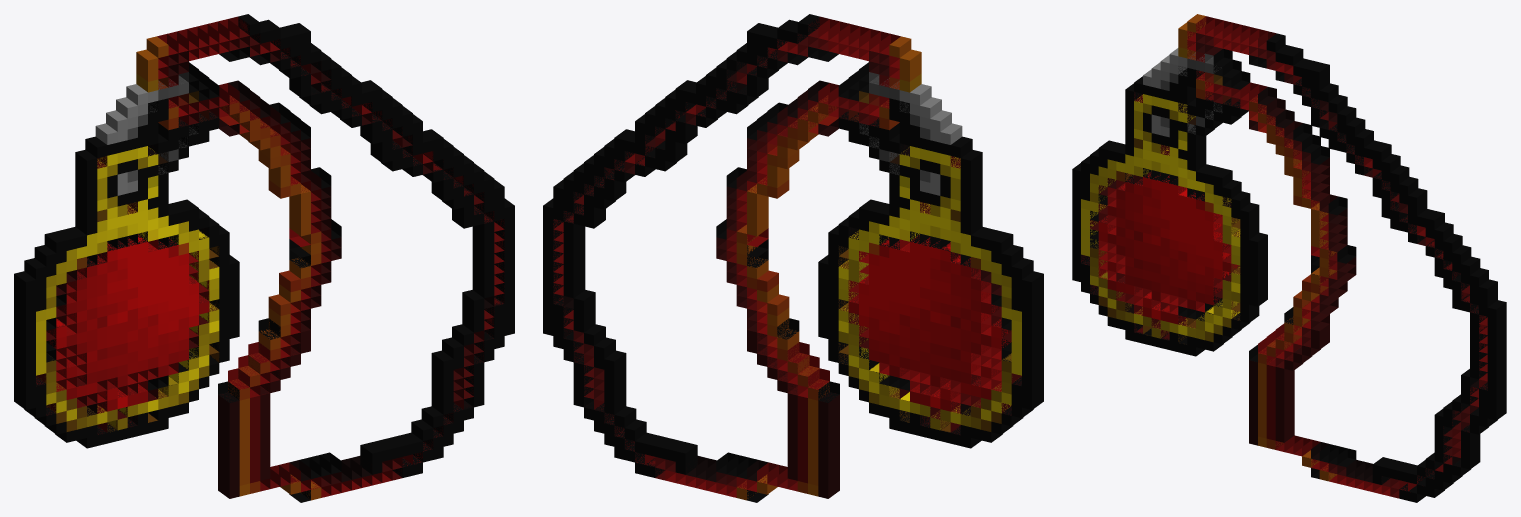
File: HestiasAmulet.fbx
3 views of the same model, side by side, from view 1: azimuth 30°, elevation 25°; view 2: azimuth 150°, elevation 25°; view 3: azimuth 330°, elevation 25° (orthographic). The views are drawn at different scales.
Parts seen in each view (by area): view 1: hestiasamulet; view 2: hestiasamulet; view 3: hestiasamulet.
Boxes of the visible parts, box(x1,y1,x2,y2) form: hestiasamulet: box(14, 14, 514, 502); hestiasamulet: box(543, 14, 1043, 502); hestiasamulet: box(1072, 14, 1506, 502).
Bounding box in the file's own units: 4700 × 4504 × 196.
